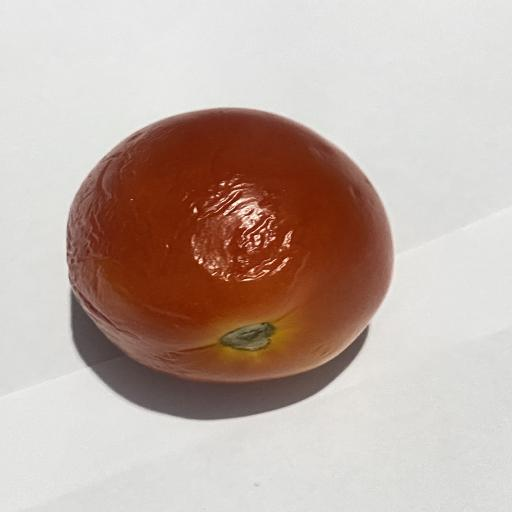spoiled: (67, 108, 393, 382)
